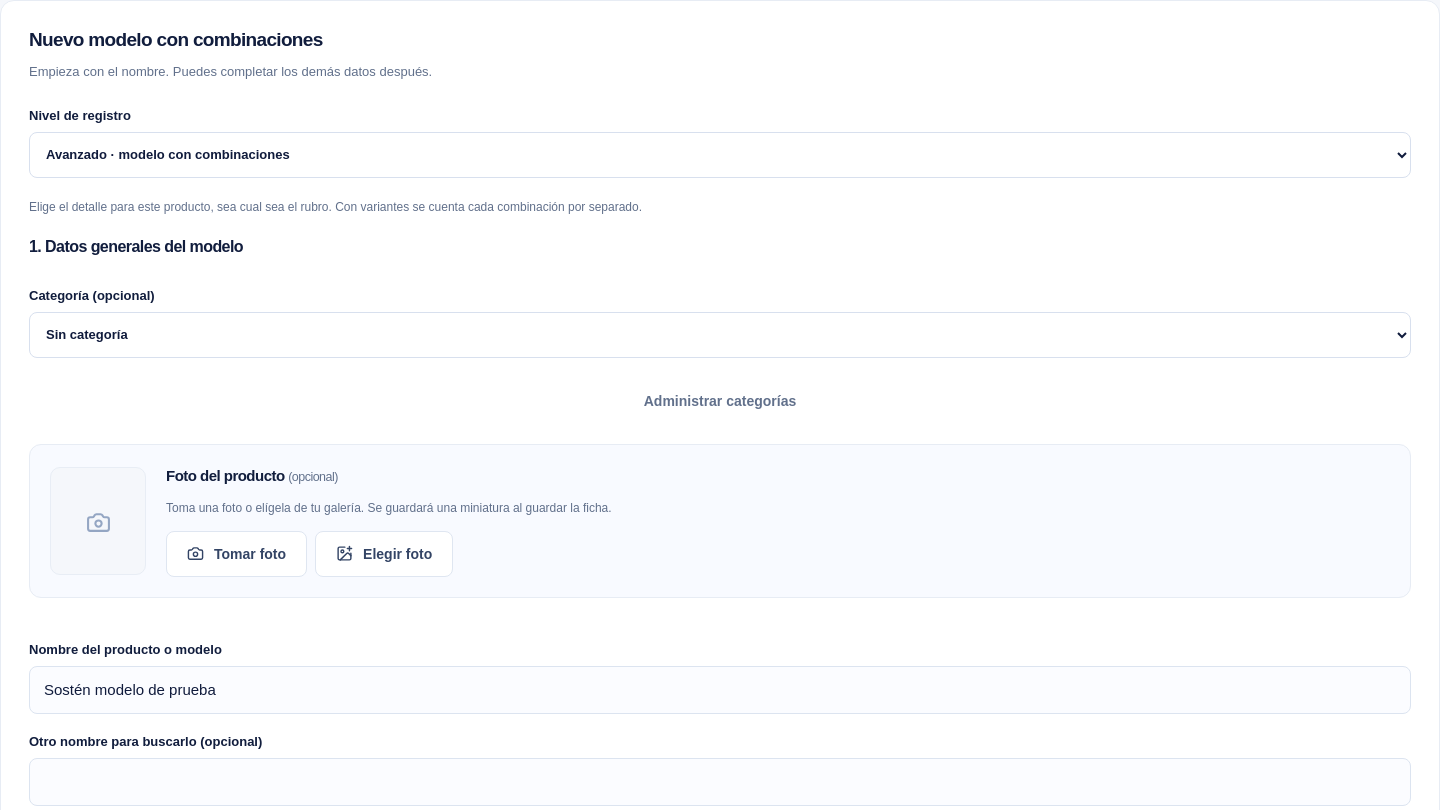
it: crear una categoría no descarta la ficha que se estaba preparando
The width and height of the screenshot is (1440, 810).
Replace the text in the field labelled "Nombre del producto o modelo" with "Modelo en preparación": (720,690) x1=29 y1=666 x2=1411 y2=714
Click the button "Administrar categorías": (720,400) x1=29 y1=378 x2=1411 y2=424
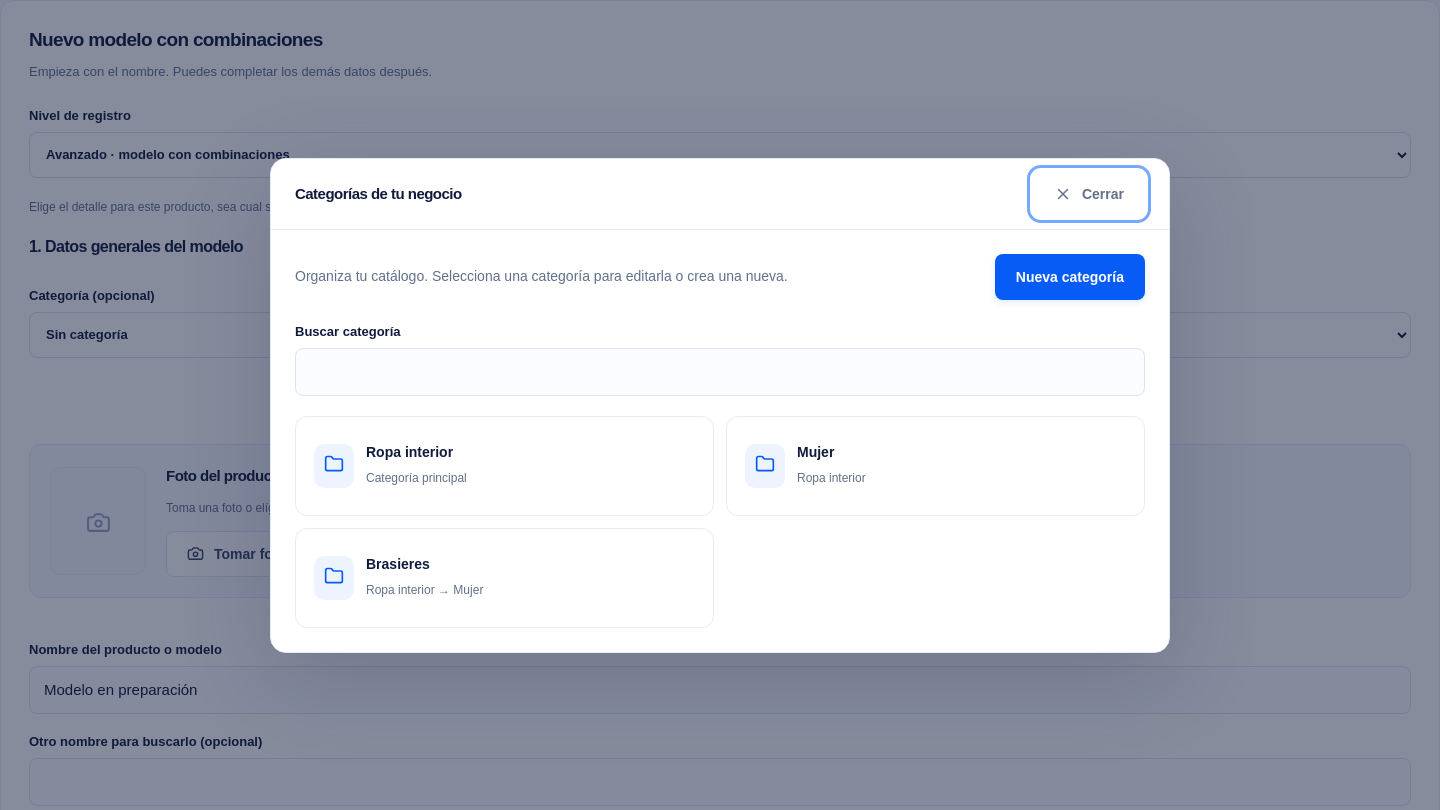
Click the button "Nueva categoría": (1070,276) x1=995 y1=254 x2=1145 y2=300
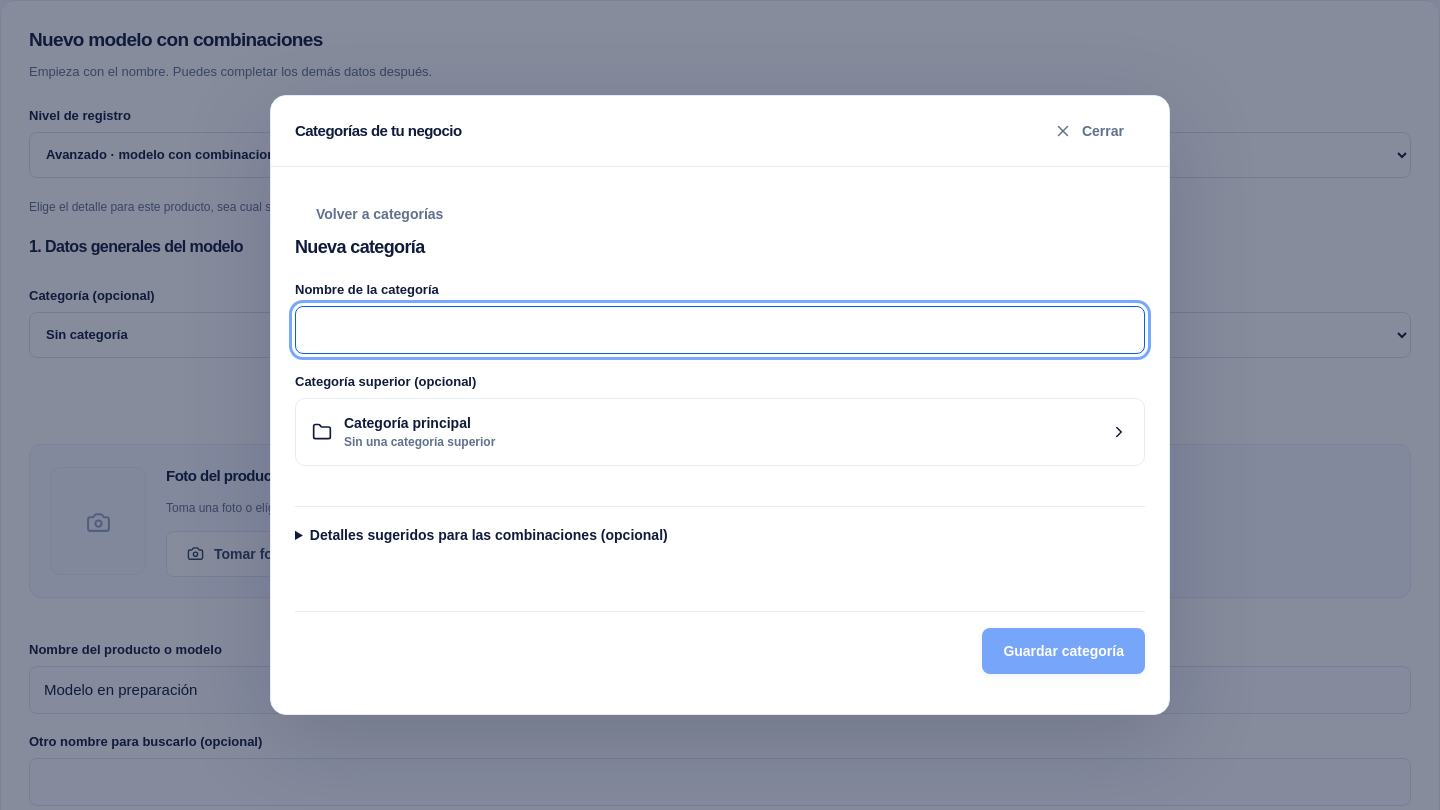
In the field labelled "Nombre de la categoría": (720,330) x1=295 y1=306 x2=1145 y2=354, type "Niña"
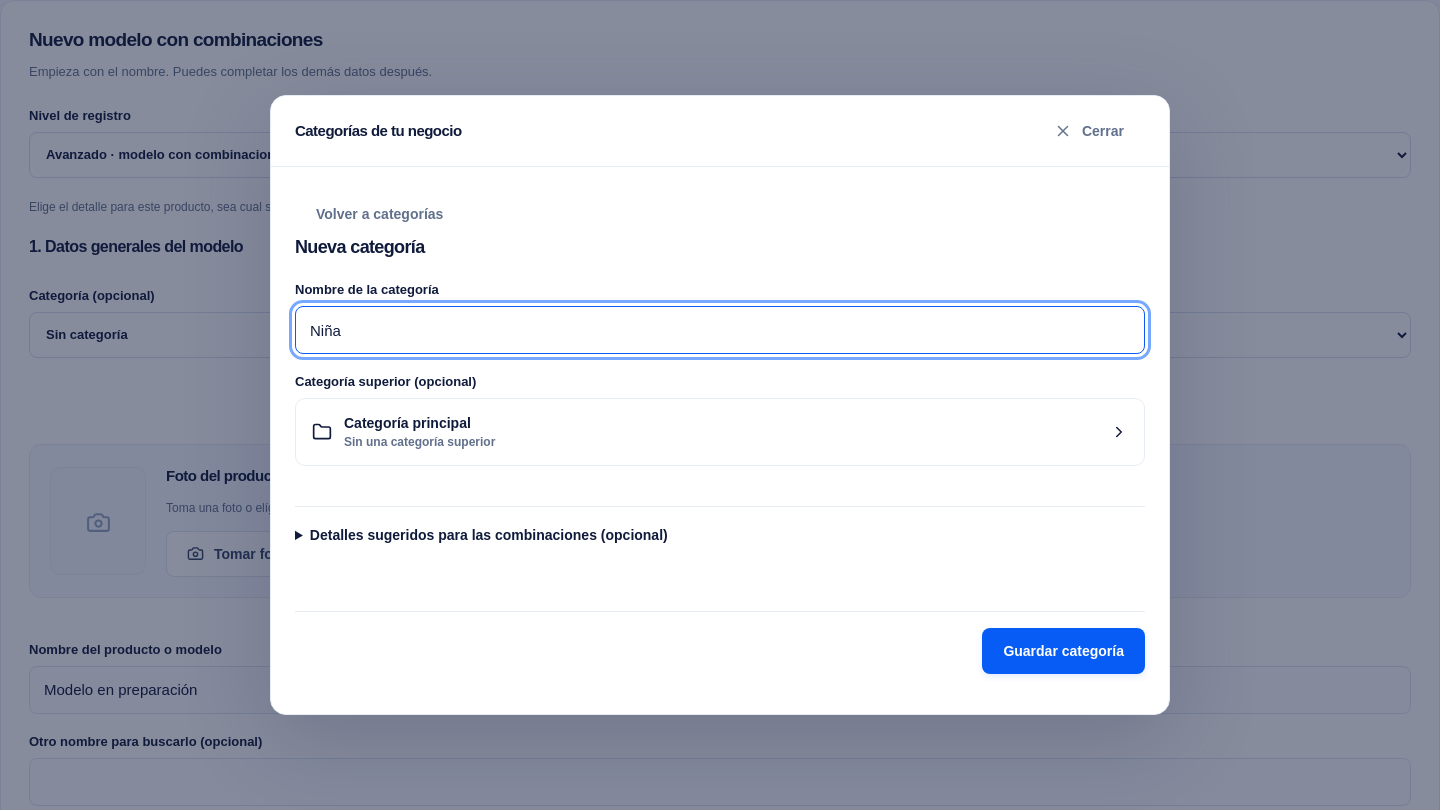
Click the button with aria-label "Elegir categoría superior": (407,423) x1=295 y1=398 x2=1145 y2=466
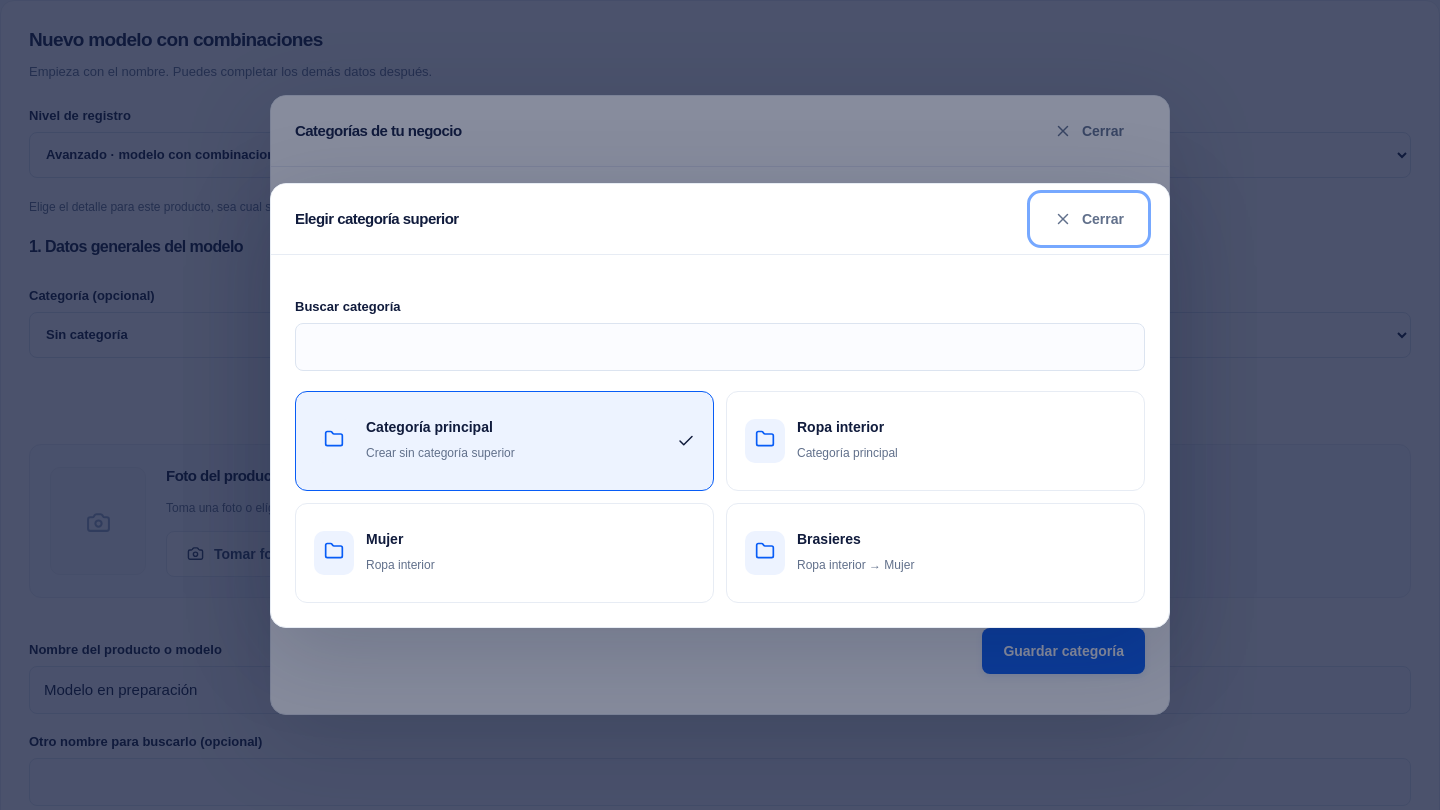
Click the button "Ropa interior Categoría principal": (765,440) x1=726 y1=390 x2=1145 y2=490
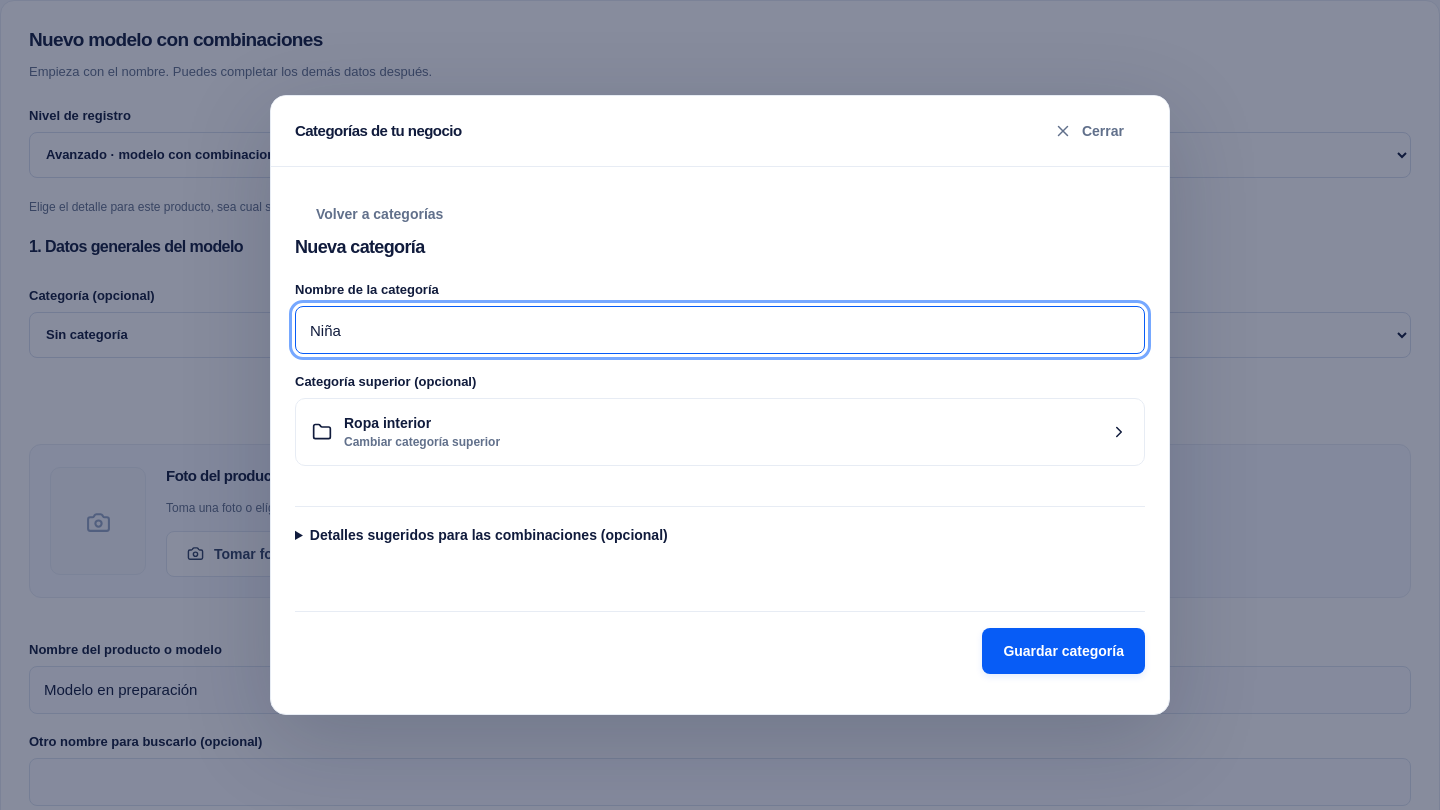
Click the button "Guardar categoría": (1064,651) x1=982 y1=628 x2=1145 y2=674
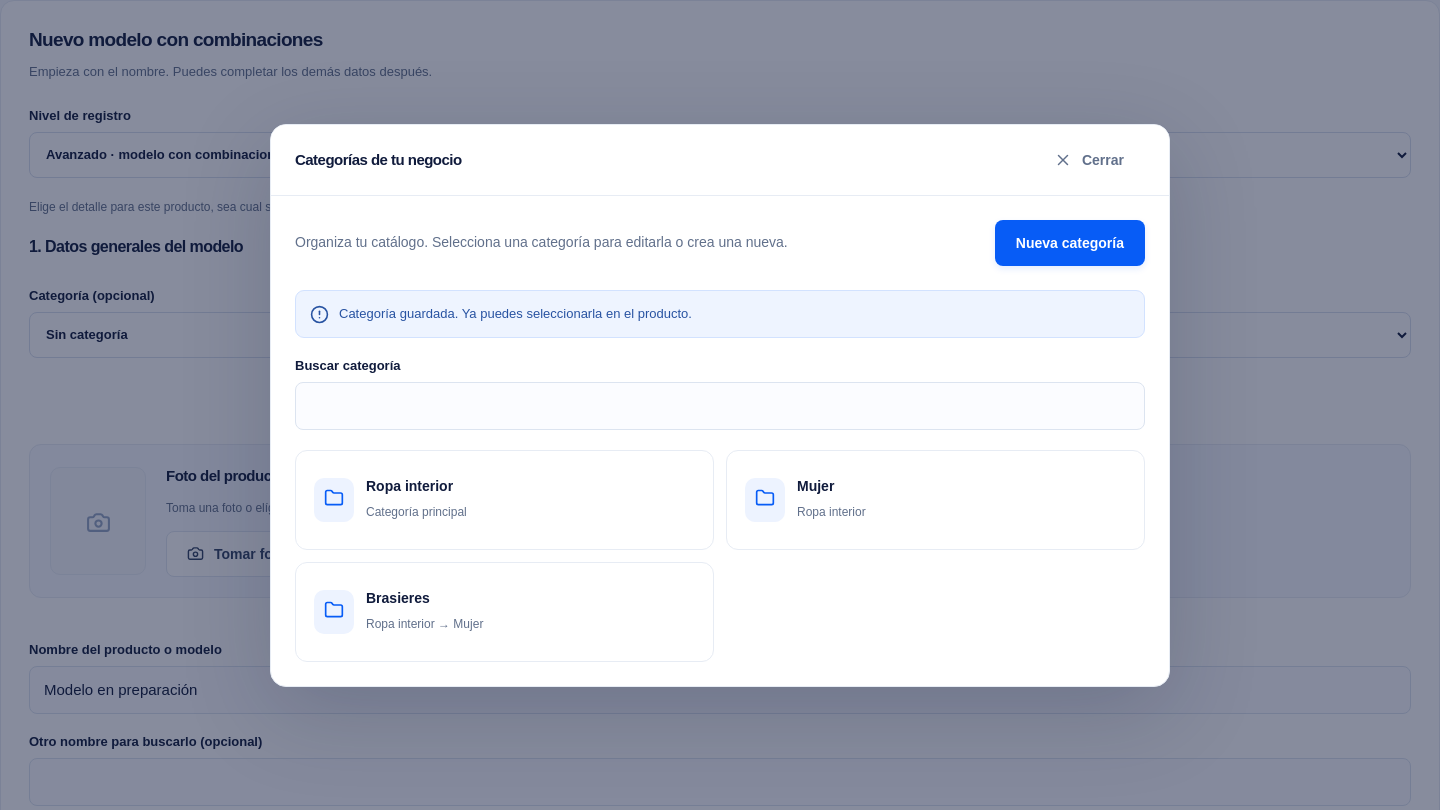
Result: the text "Categoría guardada. Ya puedes seleccionarla en el producto." is shown at x1=339 y1=304 x2=692 y2=323
